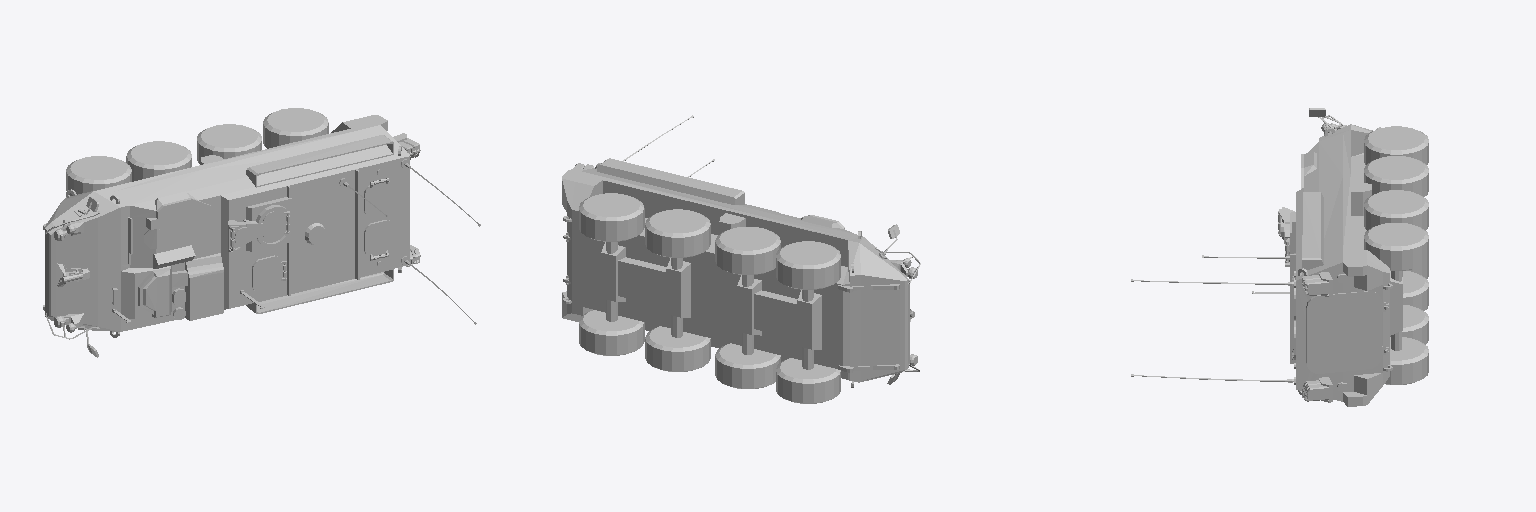
File: stryker.obj
The picture shows the model from 3 angles: view 1: azimuth 30°, elevation 25°; view 2: azimuth 150°, elevation 25°; view 3: azimuth 270°, elevation 25°; orthographic projection.
Visible parts, largest first — view 1: stryker; view 2: stryker; view 3: stryker.
Part boxes in pixels (bbox=[...]): stryker: bbox=[43, 108, 480, 357]; stryker: bbox=[562, 115, 920, 403]; stryker: bbox=[1131, 108, 1428, 406].
Bounding box in the file's own units: 9.55 × 3.99 × 6.94.